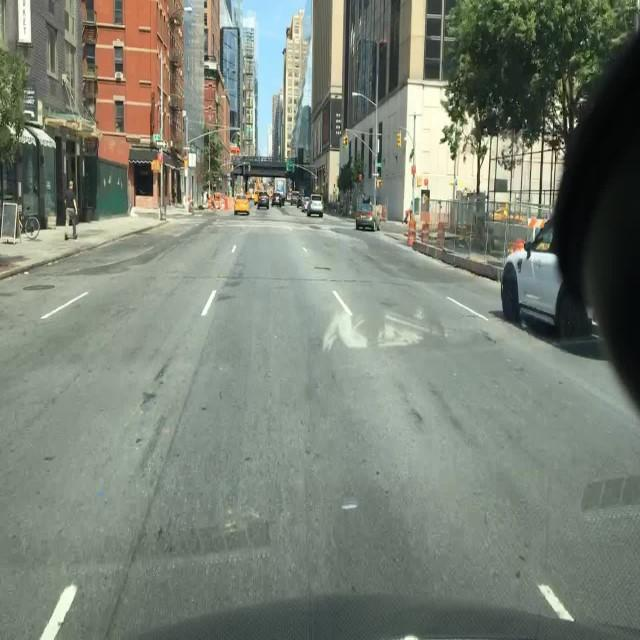normal: (501, 215, 561, 334), (355, 207, 378, 232)
